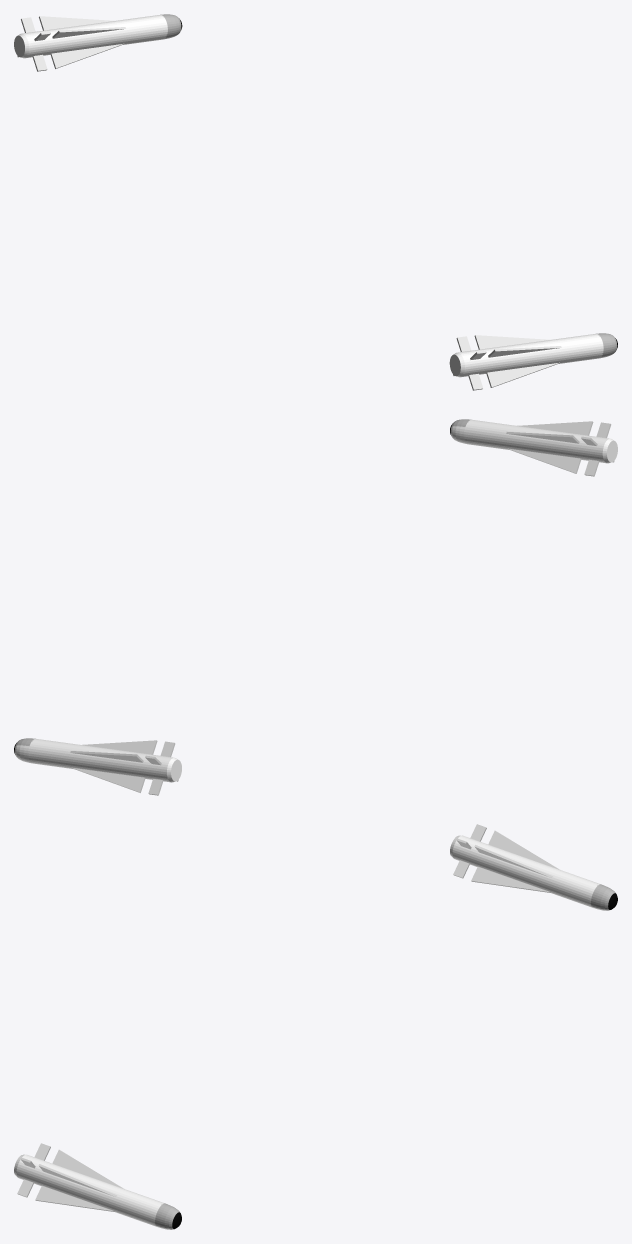
The model's file is a10cagm65110.glb.
3 renders of one model, top to bottom at view 1: azimuth 30°, elevation 25°; view 2: azimuth 150°, elevation 25°; view 3: azimuth 330°, elevation 25°, orthographic.
Visible parts, largest first — view 1: 立方体.005, 立方体.001; view 2: 立方体.001, 立方体.005; view 3: 立方体.005, 立方体.001.
Part boxes in pixels (<box>): 立方体.005: <box>449,333,617,390</box>; 立方体.001: <box>14,14,182,71</box>; 立方体.001: <box>14,738,181,795</box>; 立方体.005: <box>450,419,617,476</box>; 立方体.005: <box>14,1143,181,1229</box>; 立方体.001: <box>450,824,617,910</box>.
Size of the model in its own units: 2.52 by 0.6673 by 12.34.
Materials: 1 (1 with a texture image).
